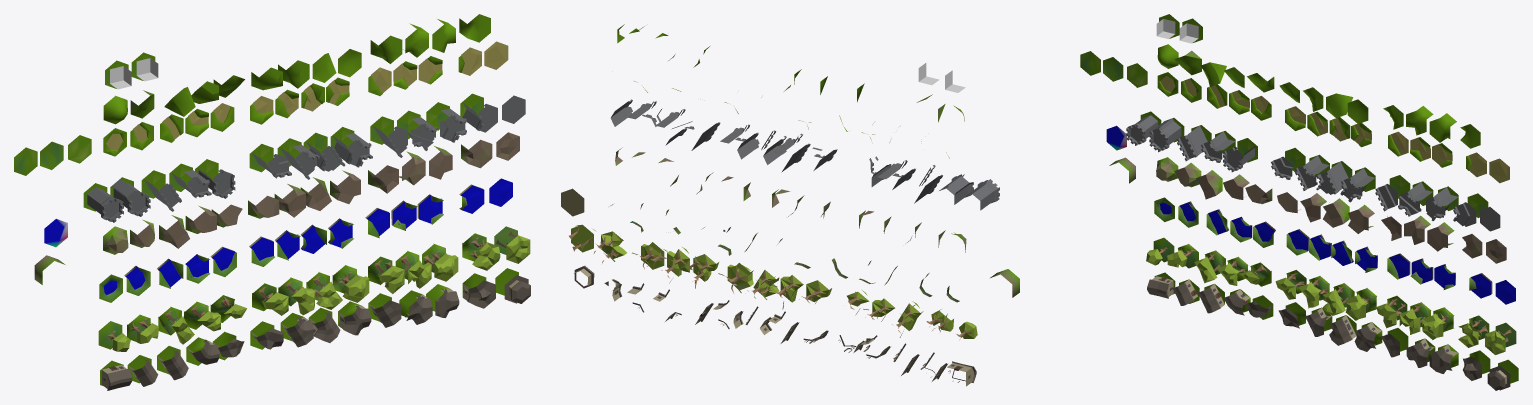
File: Hex.glb
3 views of the same model, side by side, from view 1: azimuth 30°, elevation 25°; view 2: azimuth 150°, elevation 25°; view 3: azimuth 330°, elevation 25° (orthographic). The views are drawn at different scales.
Visible parts, largest first — view 1: Wall_T4, Wall_Q3, Wall_N, Wall_F, Tree_F, Tree_T4, Wall_Q1, Wall_E, Wall_T1, House_H, Wall_Q2, Tree_H (+88 smaller); view 2: Tree_T4, Wall_N, Wall_T4, Tree_F, Tree_Q3, Tree_H, Tree_Q2, Water_H, Tree_Q1, Wall_E, Tree_T3, Tree_T2 (+1 smaller); view 3: Wall_E, Wall_P3, Wall_T4, Wall_Q2, Wall_T3, Wall_Q3, Wall_P1, Wall_F, Tree_Q3, Wall_Q1, Tree_H, House_H (+81 smaller).
Part boxes in pixels (x1=…): Wall_T4: x1=330, y1=127, x2=372, y2=167; Wall_Q3: x1=426, y1=102, x2=466, y2=142; Wall_N: x1=83, y1=183, x2=123, y2=222; Wall_F: x1=460, y1=93, x2=497, y2=132; Tree_F: x1=462, y1=233, x2=500, y2=270; Tree_T4: x1=332, y1=265, x2=369, y2=302; Wall_Q1: x1=370, y1=116, x2=407, y2=157; Wall_E: x1=110, y1=177, x2=150, y2=216; Wall_T1: x1=249, y1=144, x2=291, y2=178; House_H: x1=495, y1=268, x2=530, y2=303; Wall_Q2: x1=397, y1=110, x2=437, y2=150; Tree_H: x1=494, y1=226, x2=530, y2=263; Tree_T4: x1=718, y1=263, x2=753, y2=293; Wall_N: x1=965, y1=179, x2=999, y2=210; Wall_T4: x1=720, y1=124, x2=759, y2=159; Tree_F: x1=594, y1=231, x2=626, y2=263; Tree_Q3: x1=632, y1=242, x2=667, y2=269; Tree_H: x1=569, y1=224, x2=595, y2=252; Tree_Q2: x1=657, y1=247, x2=692, y2=283; Water_H: x1=561, y1=188, x2=584, y2=216; Tree_Q1: x1=687, y1=254, x2=718, y2=288; Wall_E: x1=939, y1=174, x2=973, y2=204; Tree_T3: x1=747, y1=270, x2=779, y2=299; Tree_T2: x1=771, y1=275, x2=803, y2=309; Wall_E: x1=1149, y1=118, x2=1184, y2=152; Wall_P3: x1=1223, y1=138, x2=1257, y2=172; Wall_T4: x1=1340, y1=167, x2=1375, y2=202; Wall_Q2: x1=1398, y1=181, x2=1433, y2=216; Wall_T3: x1=1316, y1=161, x2=1352, y2=194; Wall_Q3: x1=1426, y1=186, x2=1458, y2=220; Wall_P1: x1=1177, y1=125, x2=1211, y2=161; Wall_F: x1=1453, y1=193, x2=1488, y2=226; Tree_Q3: x1=1422, y1=307, x2=1454, y2=339; Wall_Q1: x1=1375, y1=175, x2=1410, y2=211; Tree_H: x1=1485, y1=322, x2=1516, y2=354; House_H: x1=1487, y1=359, x2=1518, y2=390.
Size of the model in its own units: 36.83 by 23.21 by 3.6.
